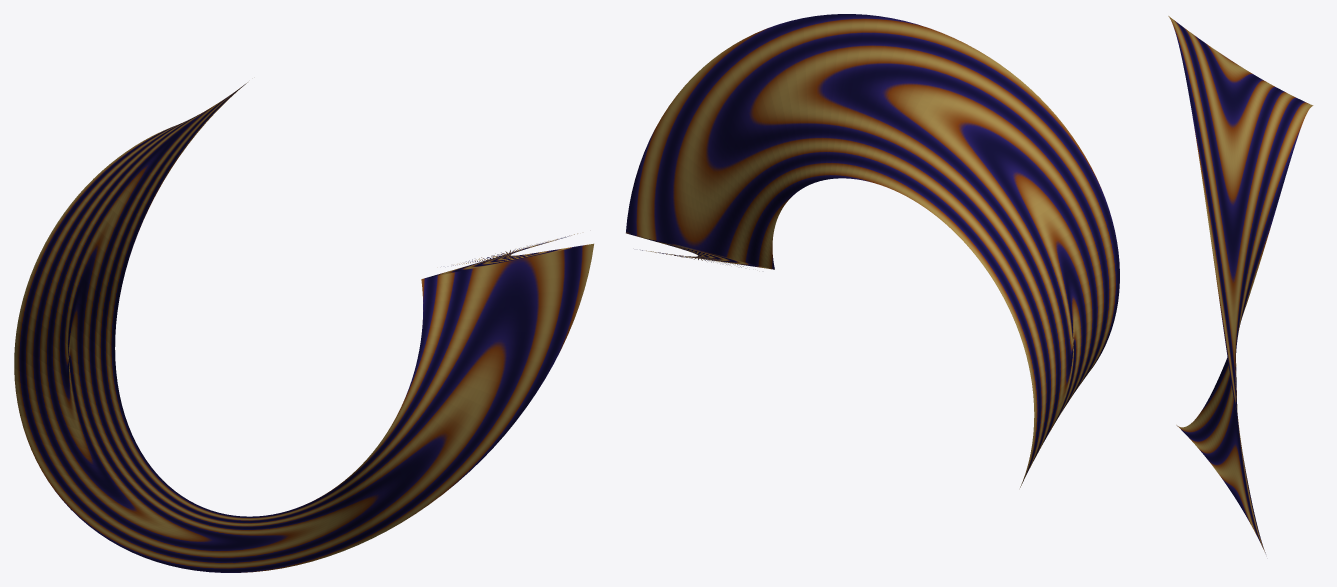
Rendered from mobius-warm-amber-c2.glb.
The picture shows the model from 3 angles, left to right: view 1: azimuth 30°, elevation 25°; view 2: azimuth 150°, elevation 25°; view 3: azimuth 270°, elevation 25°; orthographic projection. The views are drawn at different scales.
Parts seen in each view (by area): view 1: world; view 2: world; view 3: world.
Boxes of the visible parts, left/top/right/bottom form: world: left=14, top=82, right=593, bottom=572; world: left=626, top=14, right=1119, bottom=487; world: left=1168, top=16, right=1313, bottom=553.
Size of the model in its own units: 2.42 by 2.58 by 0.8.
1 material, 1 textured.
